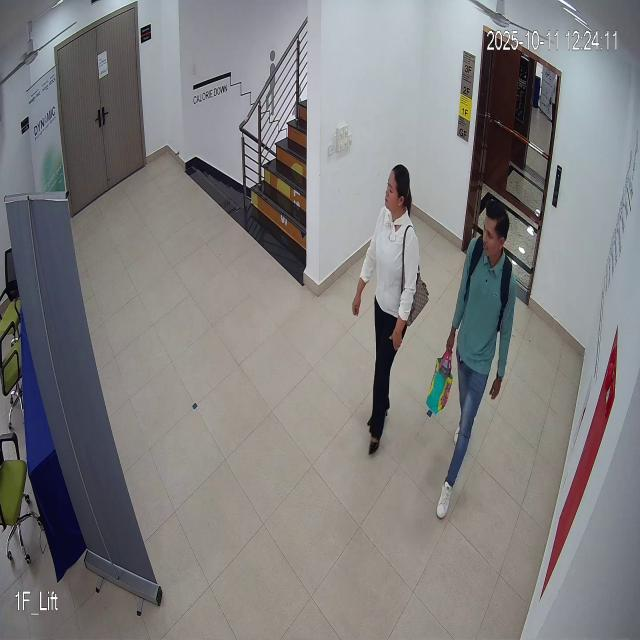face: (382, 152, 412, 227), (481, 197, 511, 267)
